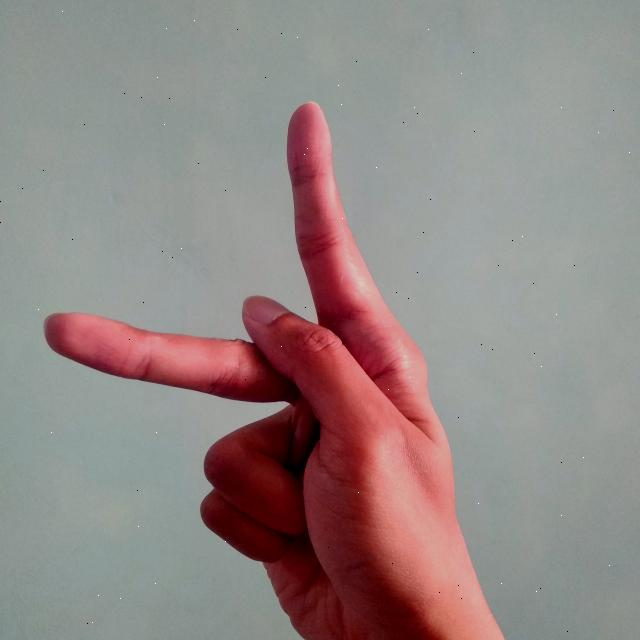K: (41, 95, 506, 640)
